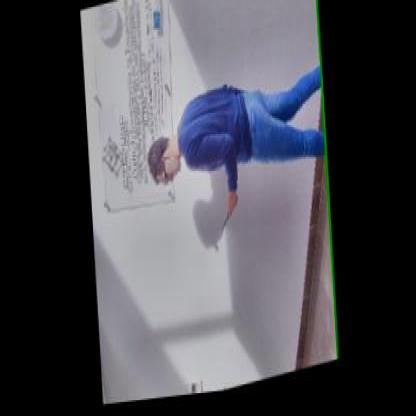knife: (216, 201, 236, 238)
